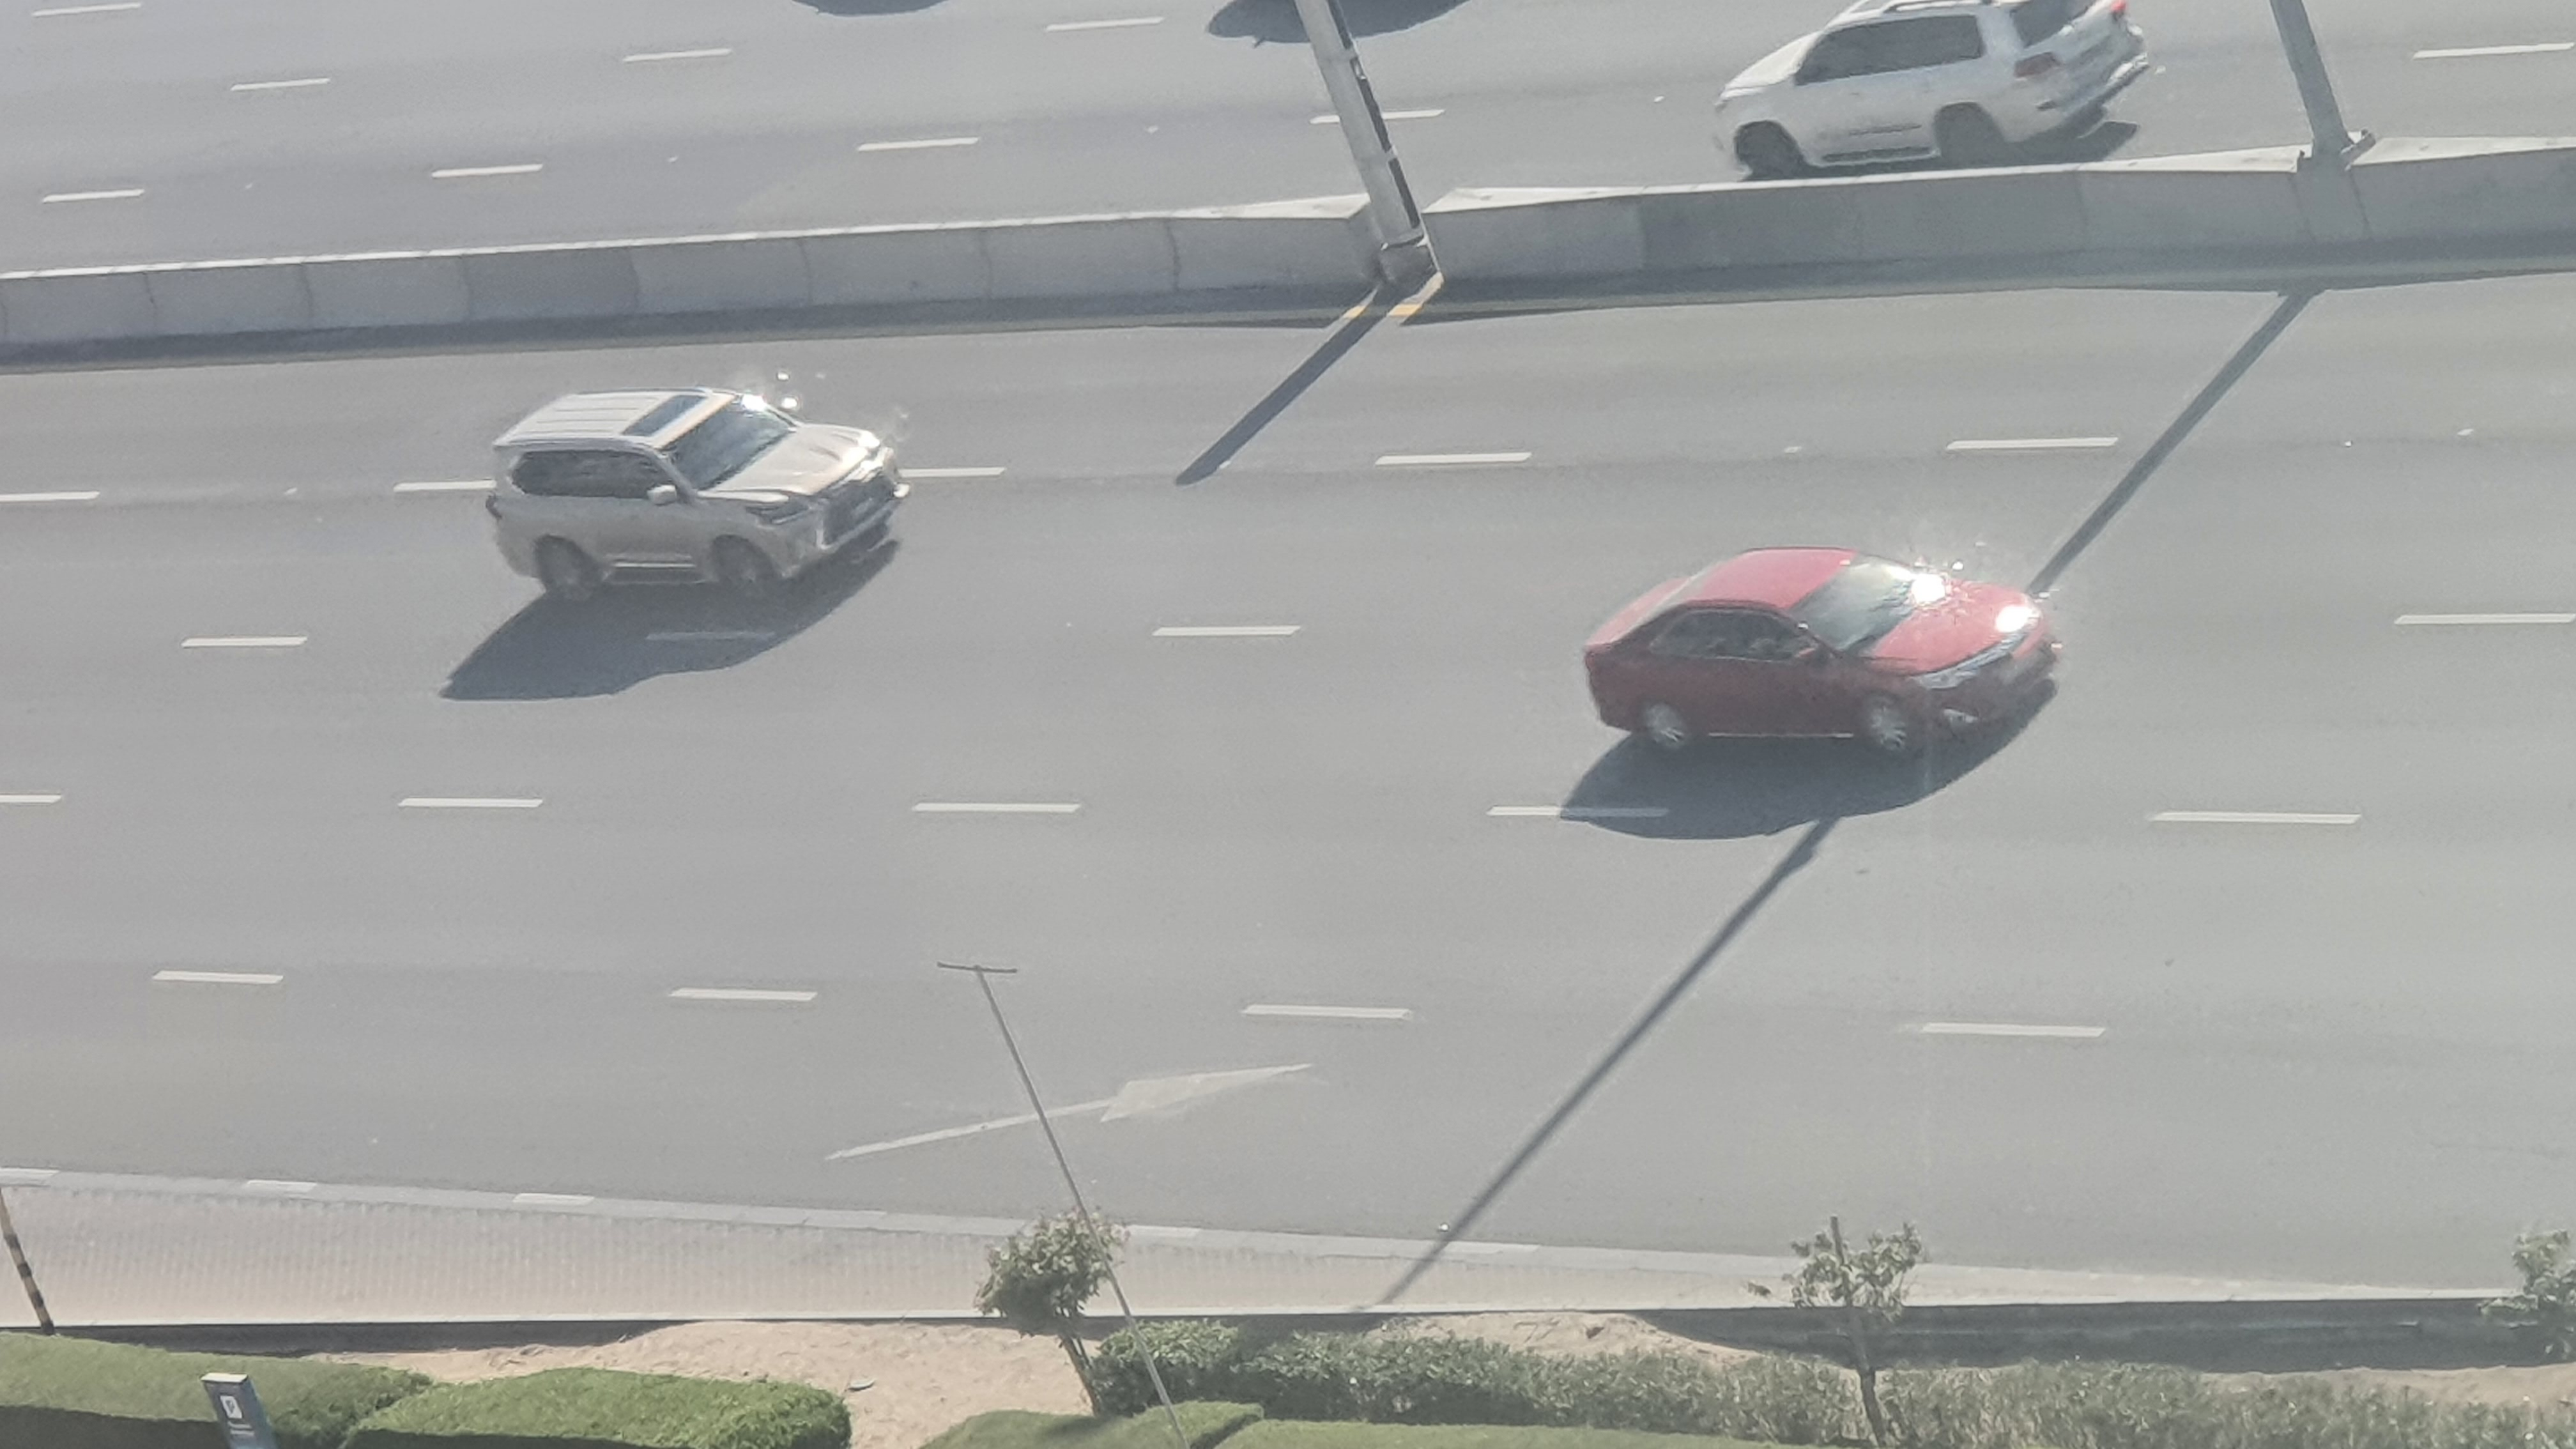NotSunroof: (1559, 533, 2066, 763)
Sunroof: (471, 372, 913, 617)
